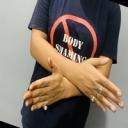hand: (67, 57, 125, 112), (23, 56, 66, 112)
